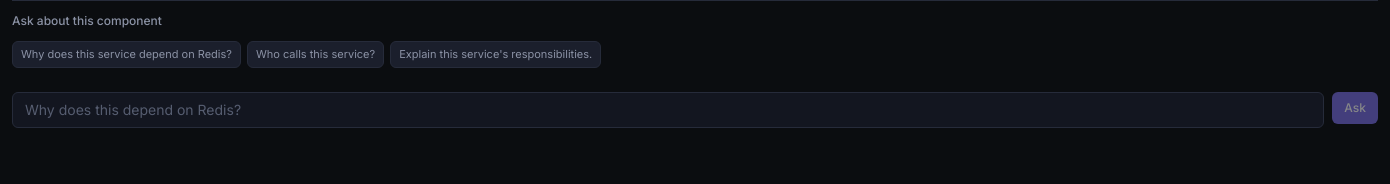
Test: NodeQuestionPanel + useAskQuestion - real integration › REGRESSION: Cancel actually renders while a real request is genuinely in flight, not just when isAsking is passed as a hardcoded prop
Type "why does this depend on Redis?" into the field with placeholder "Why does this depend on Redis?". click: (668, 110)
box: [12, 92, 1324, 128]
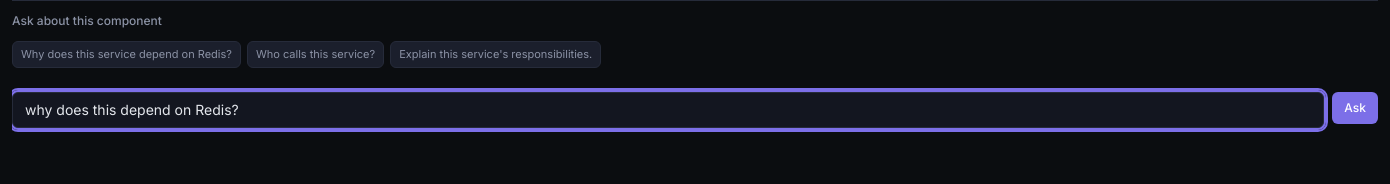
Click the button "Ask". click: (1355, 108)
box: [1332, 92, 1378, 124]
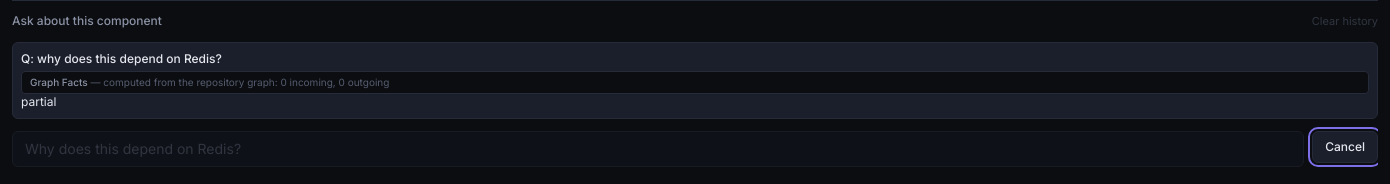
Expected: the text "partial" is shown, [21, 94, 56, 109]
Expected: the button "Cancel" is shown, [1312, 131, 1378, 163]
